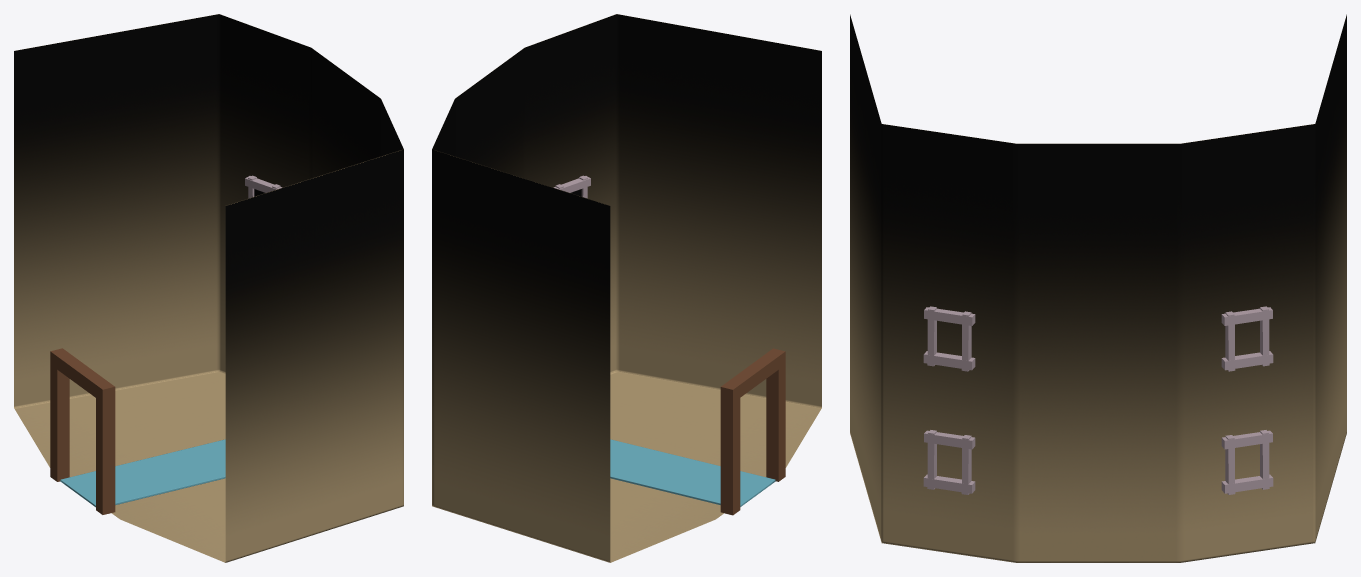
Rendered from guild_interior.glb.
3 renders of one model, left to right at view 1: azimuth 30°, elevation 25°; view 2: azimuth 150°, elevation 25°; view 3: azimuth 270°, elevation 25°, orthographic. The views are drawn at different scales.
Parts seen in each view (by area): view 1: Plane-col, Cube, Cube.001; view 2: Plane-col, Cube, Cube.001; view 3: Plane-col, Windows.
Part boxes in pixels (bbox=[...]): Plane-col: bbox=[14, 14, 403, 562]; Cube: bbox=[50, 348, 115, 514]; Cube.001: bbox=[60, 439, 225, 507]; Plane-col: bbox=[432, 14, 821, 562]; Cube: bbox=[720, 348, 785, 515]; Cube.001: bbox=[610, 439, 775, 506]; Plane-col: bbox=[850, 14, 1346, 562]; Windows: bbox=[923, 306, 1273, 494].
Size of the model in its own units: 26.15 by 33.12 by 35.55.
Materials: 5 (2 with a texture image).
